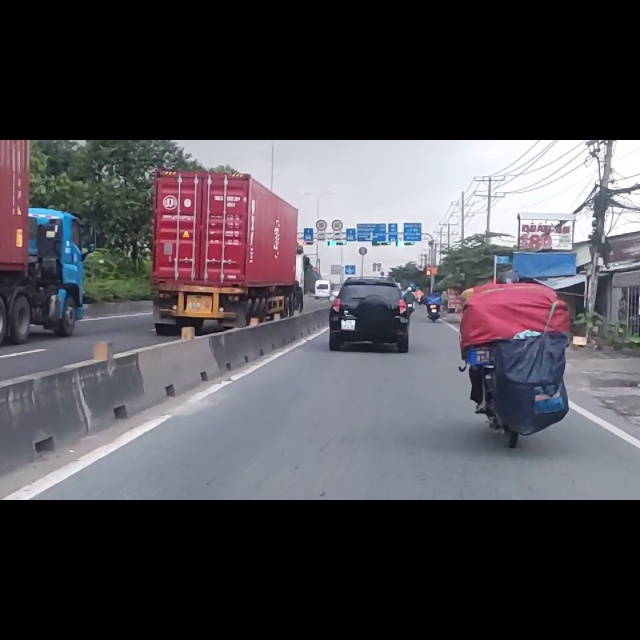bien_chi_dan: (330, 140, 343, 164), (316, 141, 327, 162)
